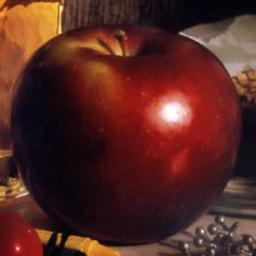apple: (8, 23, 243, 245)
